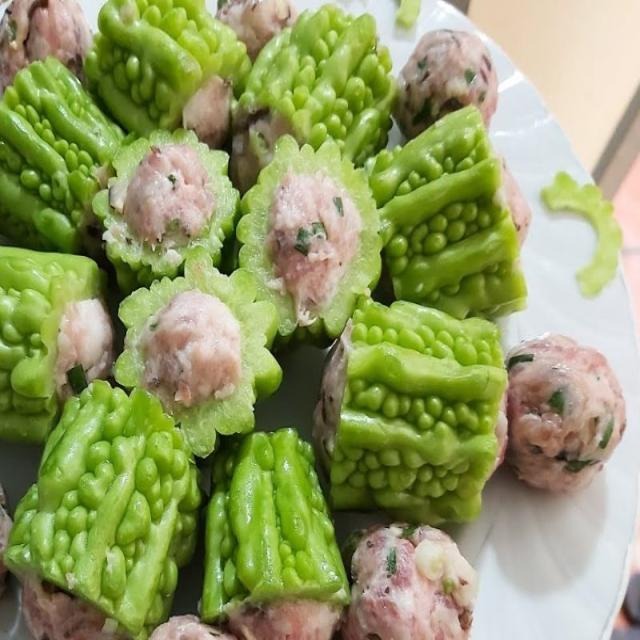kho qua: (2, 380, 200, 639), (314, 298, 506, 524), (368, 107, 530, 318), (114, 255, 282, 458), (198, 428, 350, 639), (0, 0, 122, 253), (230, 4, 394, 190), (238, 135, 382, 337), (85, 0, 249, 148), (93, 130, 239, 293), (0, 246, 113, 443)
